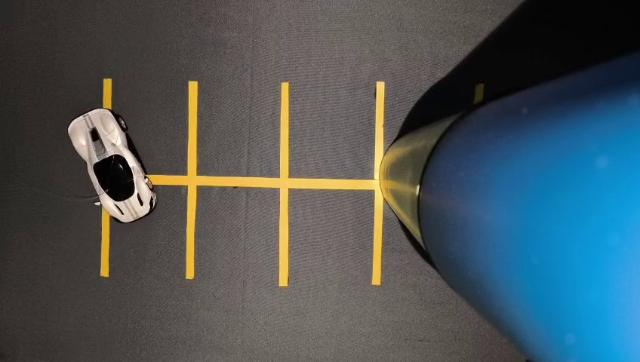toy_car: (57, 97, 189, 255)
